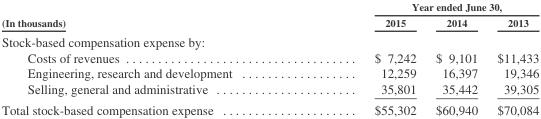table: (0, 0, 538, 116)
table column: (0, 0, 302, 116), (302, 0, 425, 116), (425, 0, 486, 116), (486, 0, 538, 116)
table column header: (0, 0, 538, 31)
table projected row header: (0, 31, 538, 49)
table row: (0, 31, 538, 49), (0, 80, 538, 98), (0, 98, 538, 116), (0, 14, 538, 31), (0, 49, 538, 65), (0, 65, 538, 80), (0, 0, 538, 14)
table spanning cell: (0, 0, 302, 31), (302, 0, 538, 14)
